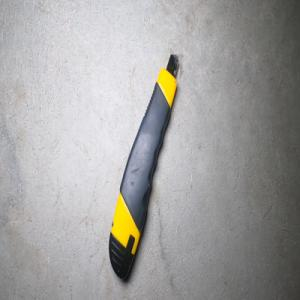Cutter: (108, 54, 179, 279)
